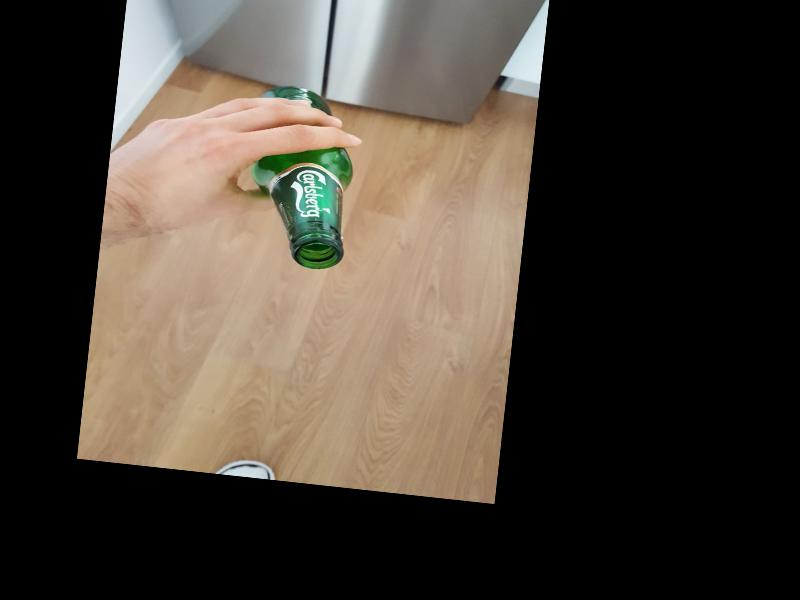Beer: (242, 83, 360, 272)
